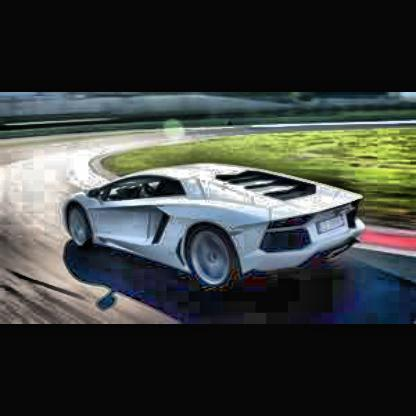Lamborghini Aventador Coupe 2012: (61, 163, 374, 301)
